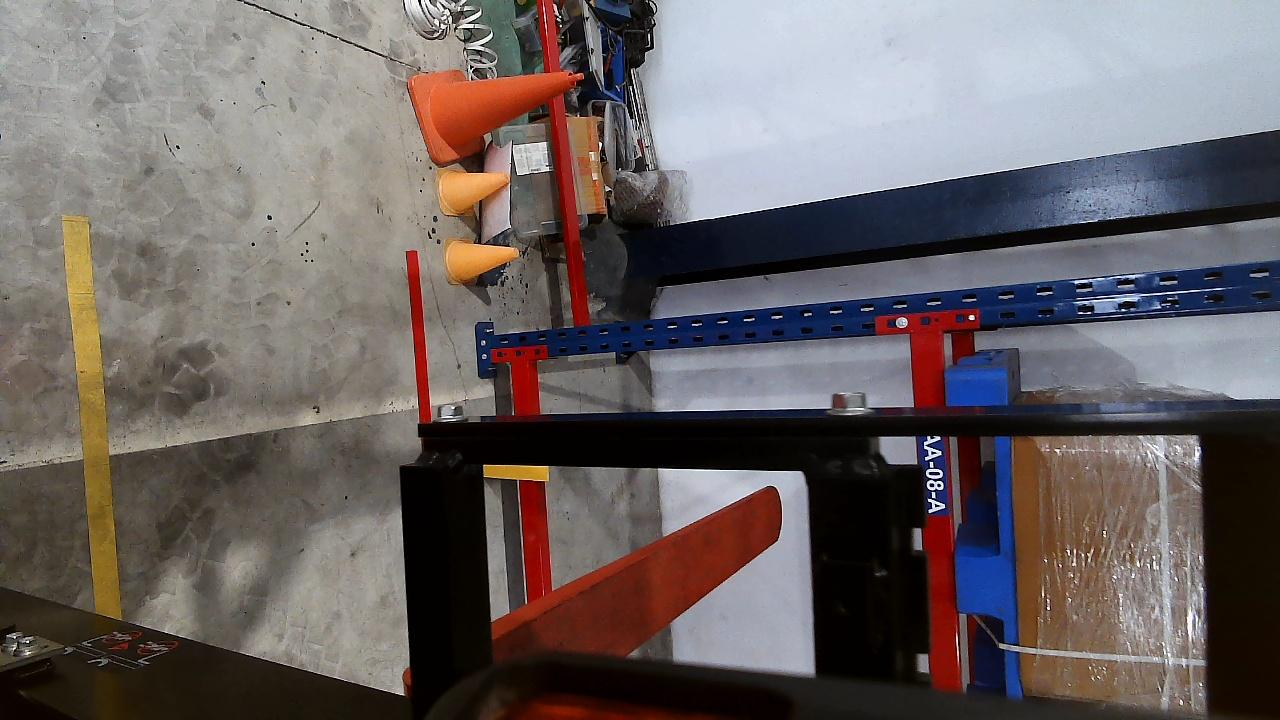h_rack: (907, 335, 962, 692), (512, 358, 550, 606)
orange_strip: (482, 465, 548, 482)
red_line: (404, 250, 432, 422)
small_pallet: (946, 368, 1024, 698)
yellow_line: (60, 215, 118, 619)
